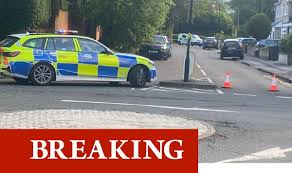car: (1, 32, 158, 85), (139, 33, 172, 60), (220, 39, 244, 60), (202, 36, 219, 51)
cone: (267, 73, 281, 93), (221, 72, 234, 89)
